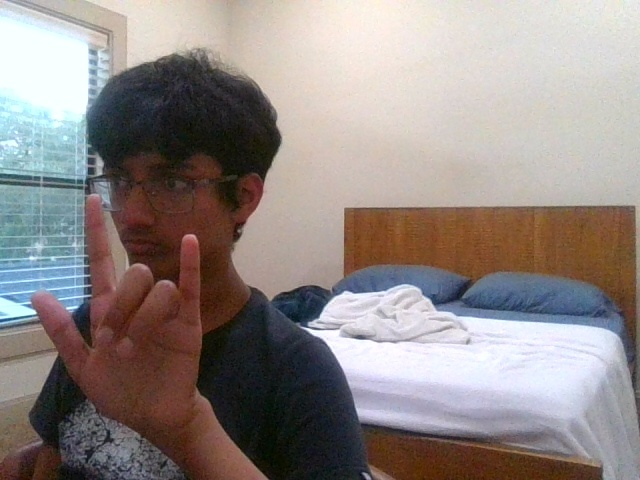ly: (31, 193, 202, 426)
